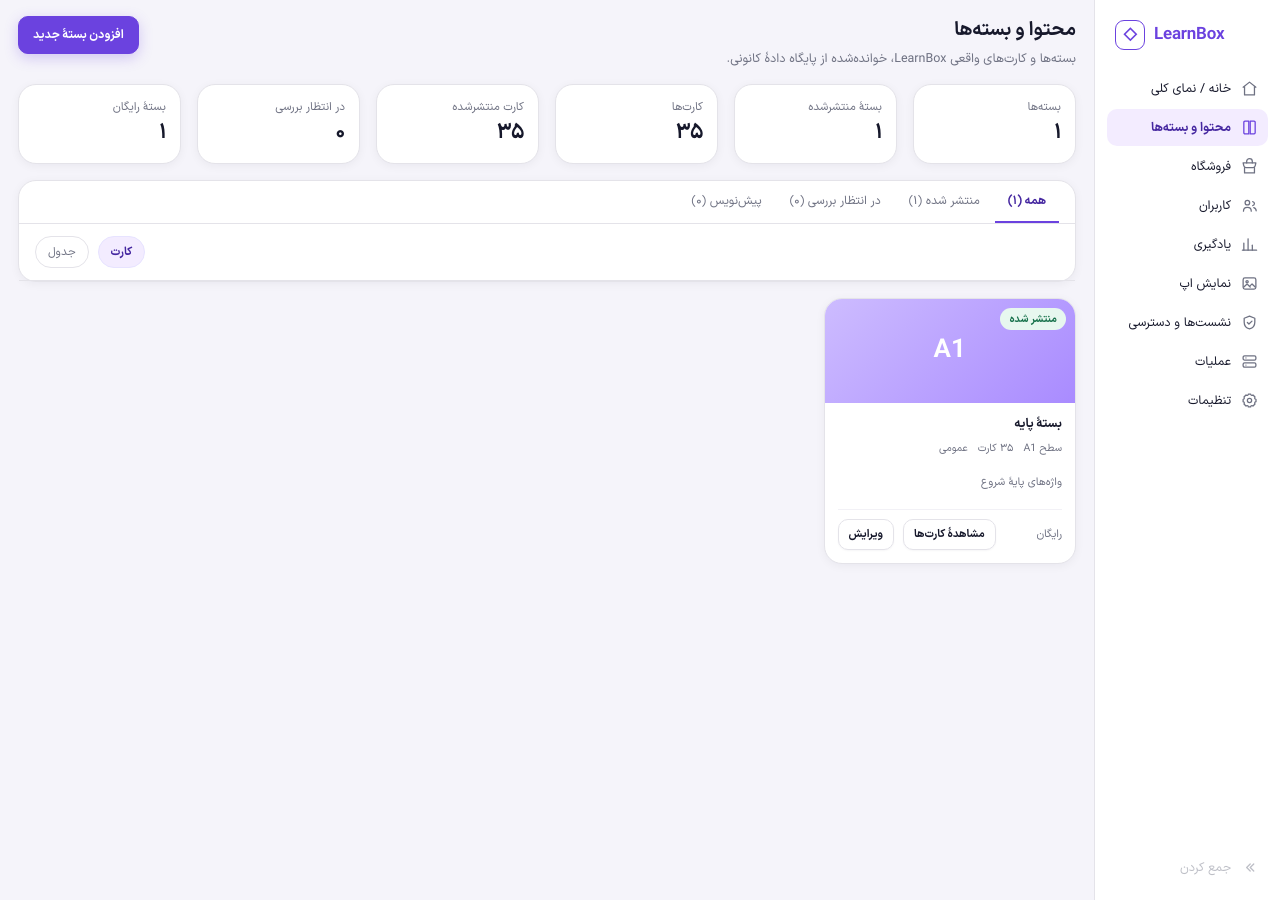
Test case: Content packs presentation (Stage 3) › identifies table rows by name over canonical id, with the level as a chip
Step 1. Click the button with class "chip" showing "جدول" → (62, 252), box [35, 236, 89, 268]
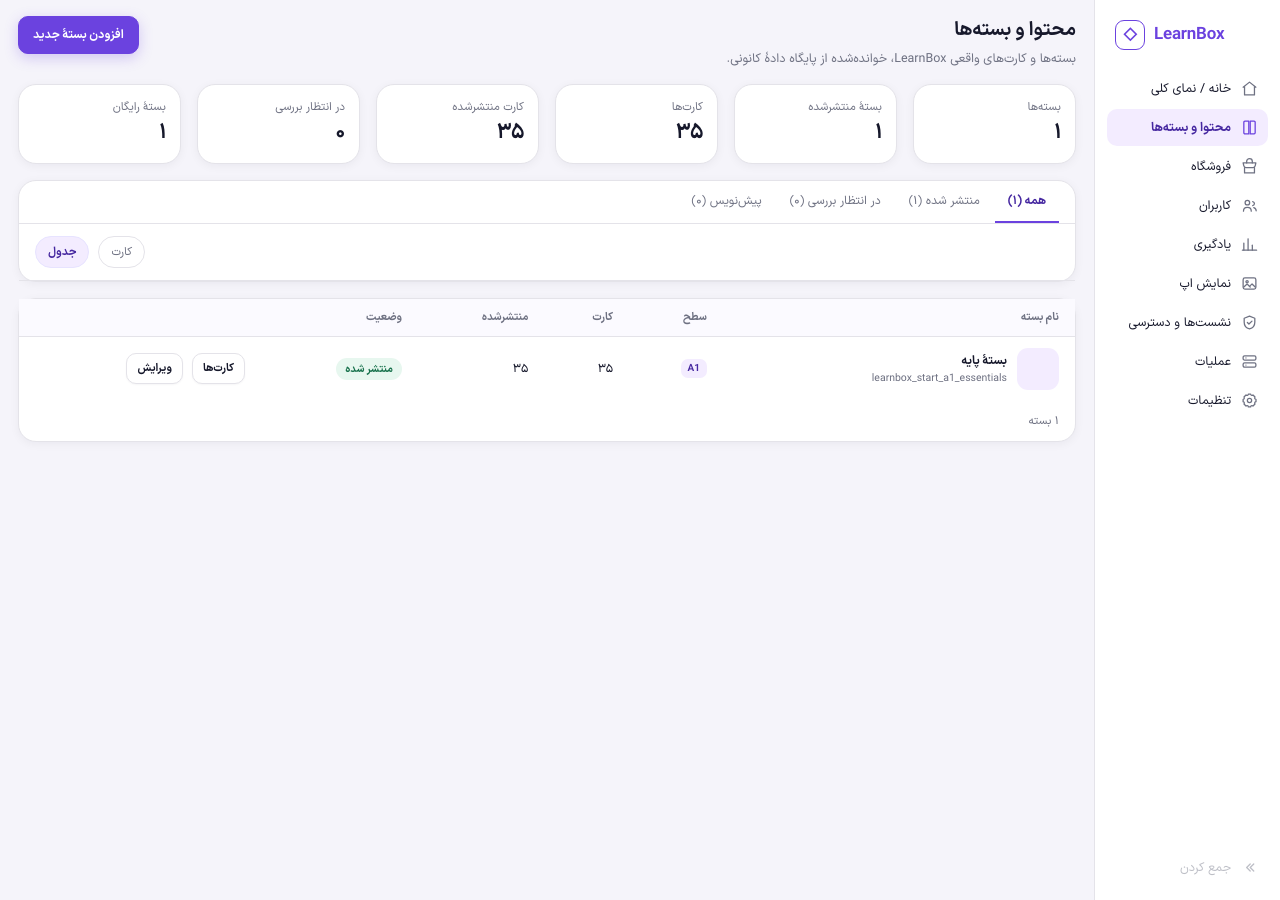
Expected: the text with class "t-name" reads "بستهٔ پایه", [961, 352, 1007, 370]
Expected: the element with class "cell-main" is shown, [872, 348, 1059, 390]
Expected: the text with class "t-sub" reads "learnbox_start_a1_essentials", [872, 370, 1007, 386]
